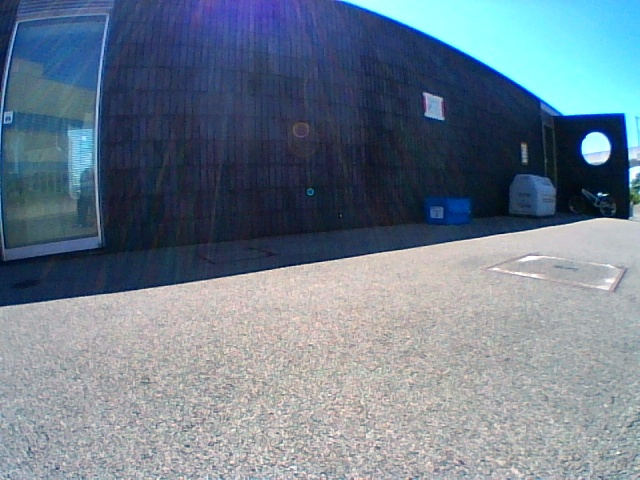blue_box: (426, 198, 468, 223)
tag: (431, 207, 442, 218)
